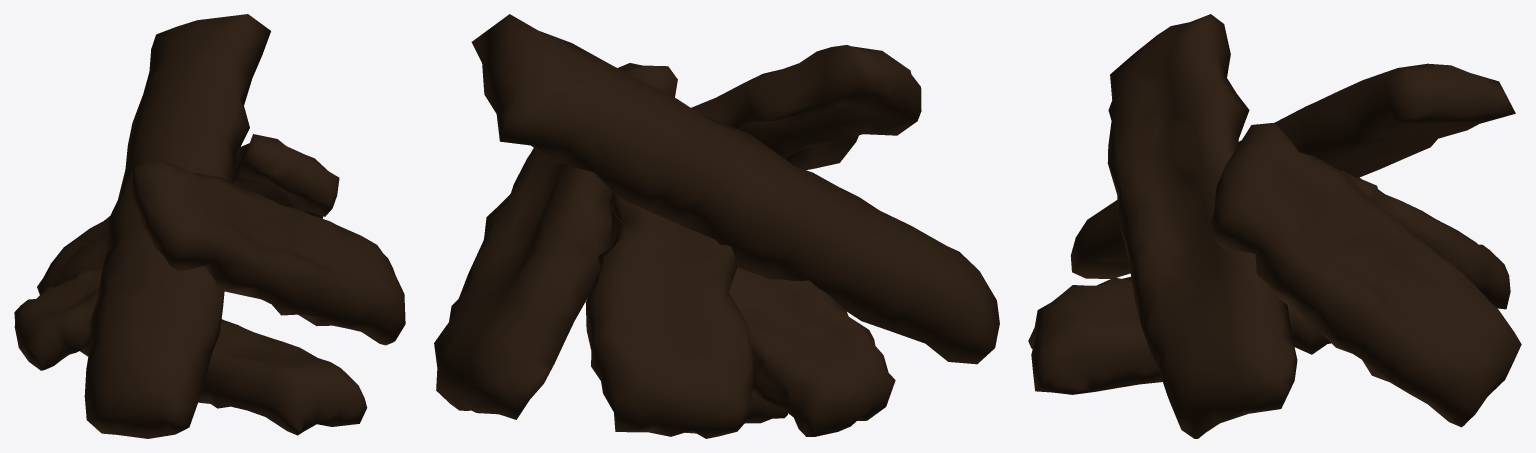
The model's file is WF_CampFireLogs.glb.
The picture shows the model from 3 angles, left to right: view 1: azimuth 30°, elevation 25°; view 2: azimuth 150°, elevation 25°; view 3: azimuth 270°, elevation 25°; orthographic projection. The views are drawn at different scales.
Parts seen in each view (by area): view 1: CampFire.002; view 2: CampFire.002; view 3: CampFire.002.
Boxes of the visible parts, left/top/right/bottom form: CampFire.002: left=14, top=14, right=405, bottom=438; CampFire.002: left=434, top=14, right=999, bottom=438; CampFire.002: left=1028, top=14, right=1521, bottom=438.
Size of the model in its own units: 0.1747 by 0.1399 by 0.1799.
